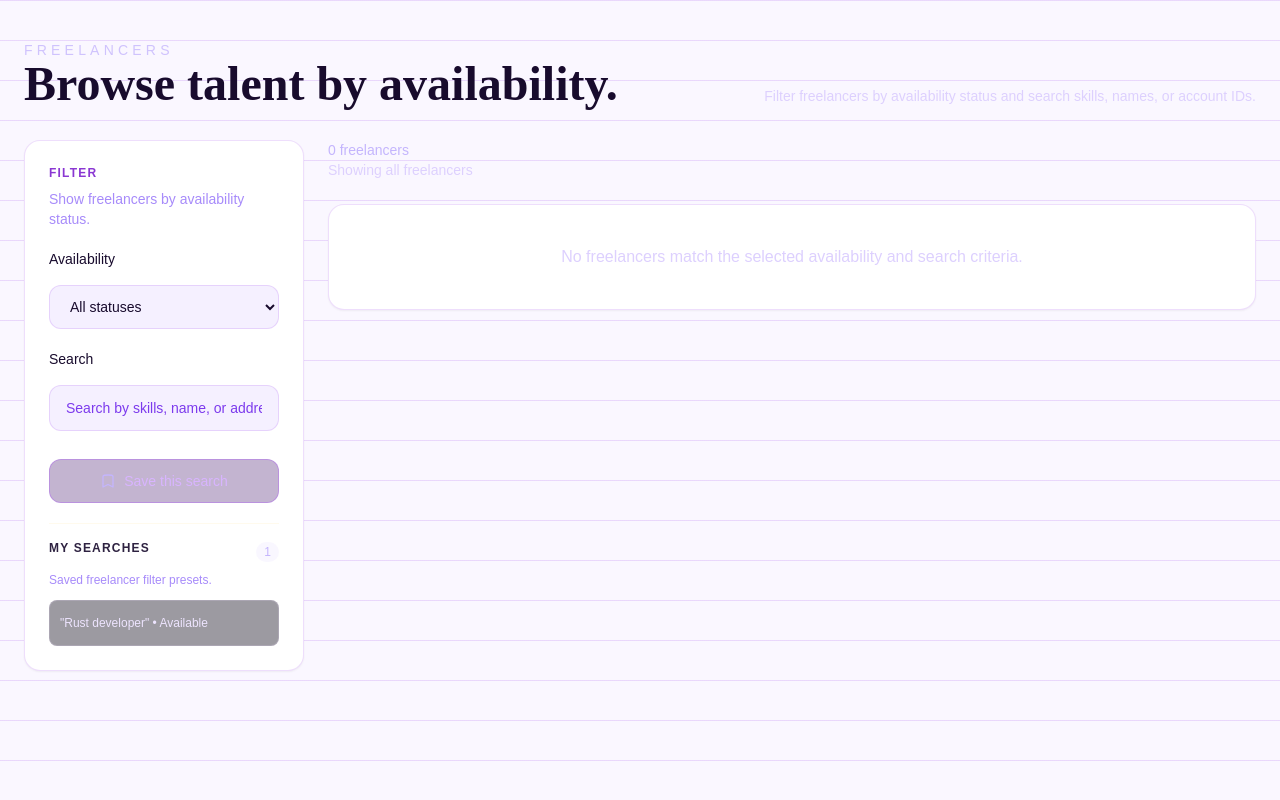
it: Freelancers Directory Saved Searches (#1420) › clicking a saved search restores all filter params
This screenshot has width=1280, height=800.
Check: the field labelled "Search" is empty, box [49,385,279,431]
Check: the dropdown labelled "Availability" shows "All statuses", box [49,285,279,329]
Note: Click the saved search item
What coordinates should you click on to do the following:
click the button "\"Rust developer\" • Available"
I would click on:
 (155, 623)
Its box is [60,615,250,631].
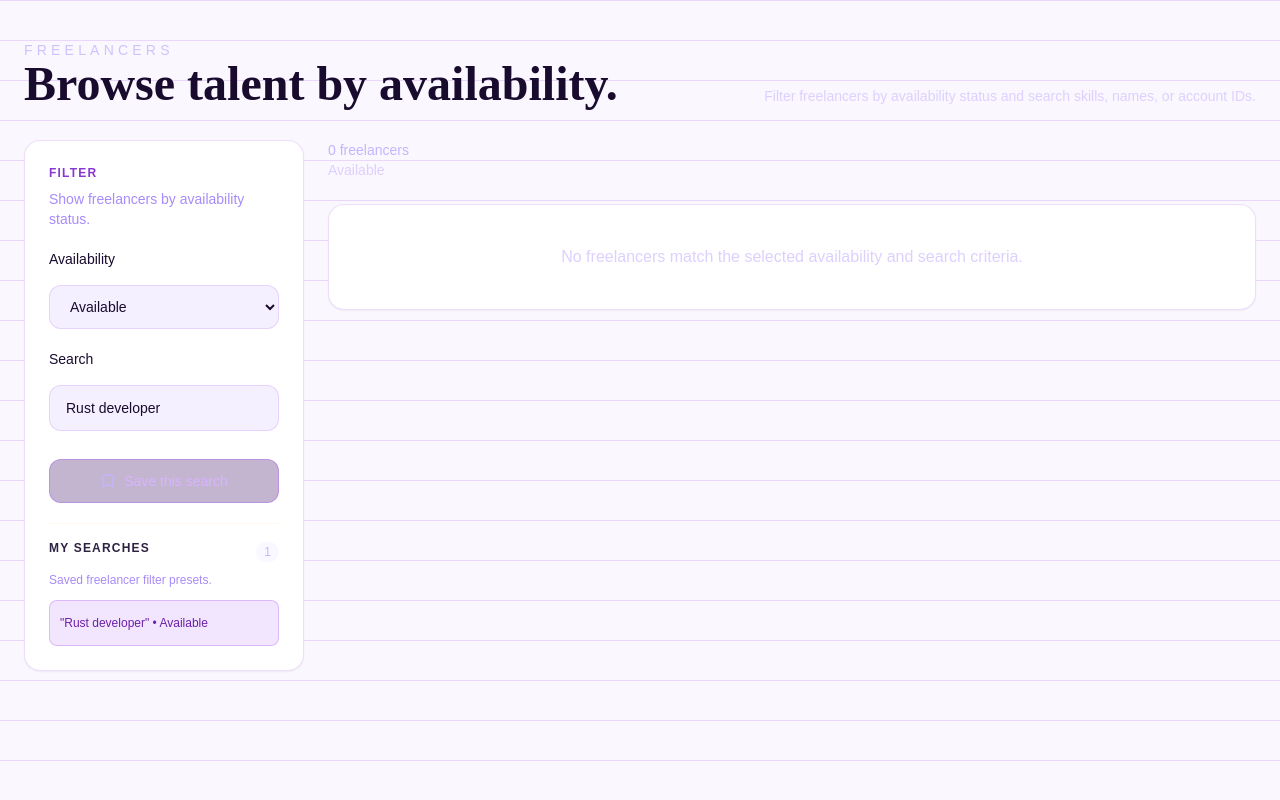
Check: the field labelled "Search" holds "Rust developer", box [49,385,279,431]
Check: the dropdown labelled "Availability" shows "Available", box [49,285,279,329]
